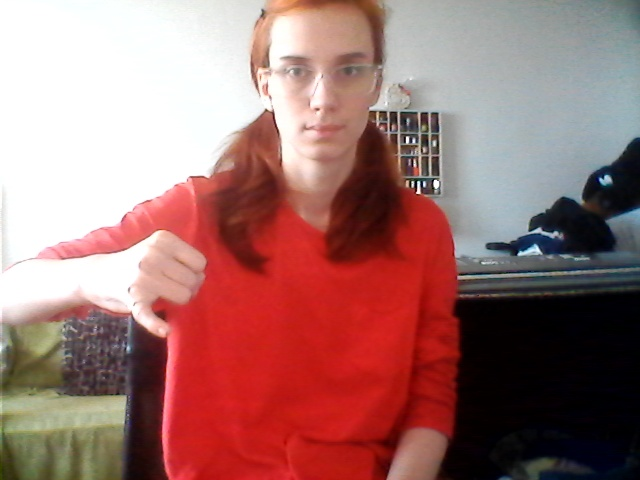j: (85, 218, 238, 348)
